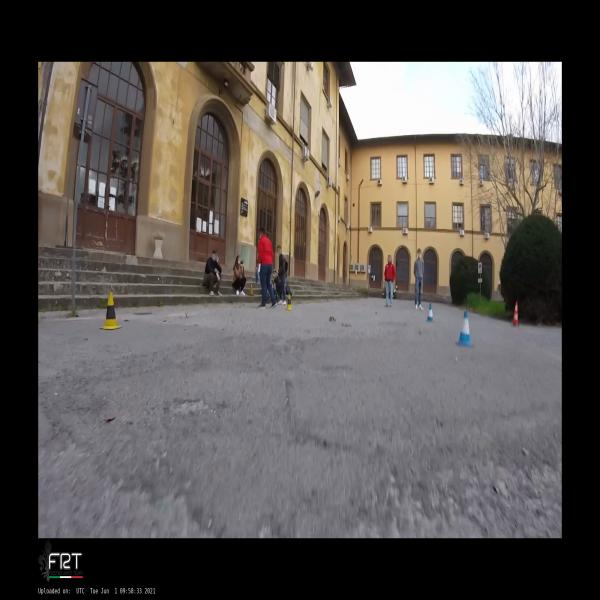blue_cone: (455, 311, 475, 347), (426, 303, 436, 322)
large_orange_cone: (511, 301, 520, 328)
unknown_cone: (249, 284, 254, 296)
yellow_cone: (100, 291, 122, 331), (285, 294, 293, 310)
